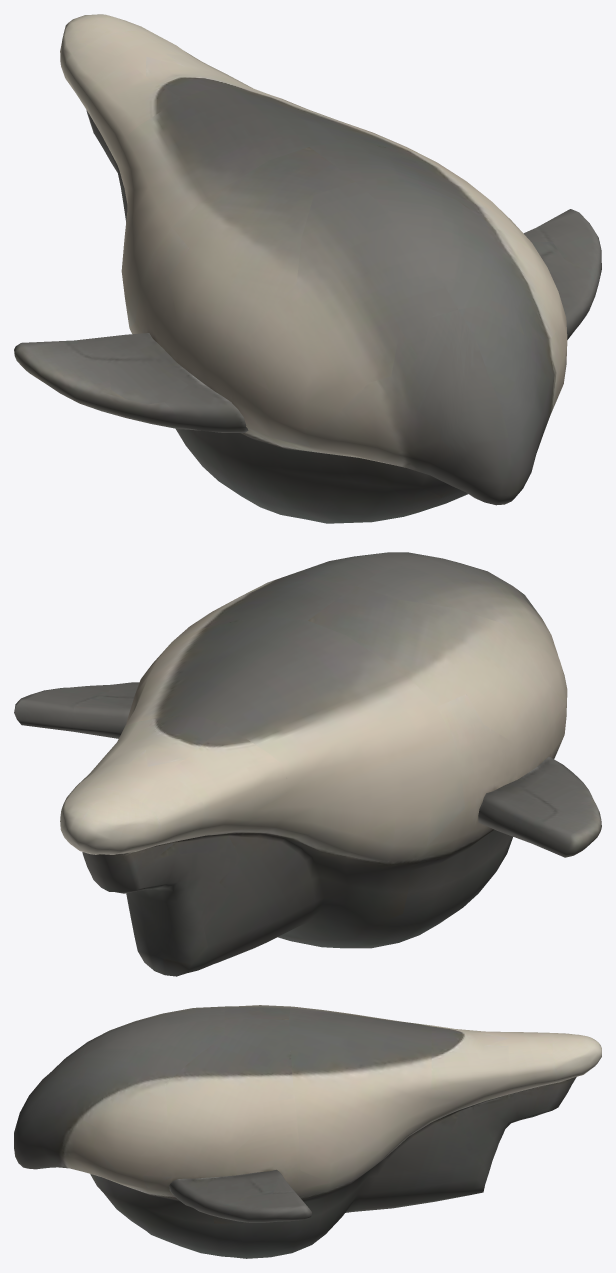
The model's file is scout.glb.
The picture shows the model from 3 angles, top to bottom: view 1: azimuth 30°, elevation 25°; view 2: azimuth 150°, elevation 25°; view 3: azimuth 270°, elevation 25°; orthographic projection. The views are drawn at different scales.
Visible parts, largest first — view 1: tripo_node_69447ec8-ea73-4983-8868-28d02ccc9a25; view 2: tripo_node_69447ec8-ea73-4983-8868-28d02ccc9a25; view 3: tripo_node_69447ec8-ea73-4983-8868-28d02ccc9a25.
Boxes of the visible parts, x1,y1,x2,y2 form: tripo_node_69447ec8-ea73-4983-8868-28d02ccc9a25: (14, 14, 601, 523); tripo_node_69447ec8-ea73-4983-8868-28d02ccc9a25: (14, 552, 601, 976); tripo_node_69447ec8-ea73-4983-8868-28d02ccc9a25: (14, 1005, 601, 1258).
Size of the model in its own units: 0.752 by 0.4199 by 0.998.
Materials: 1 (1 with a texture image).
